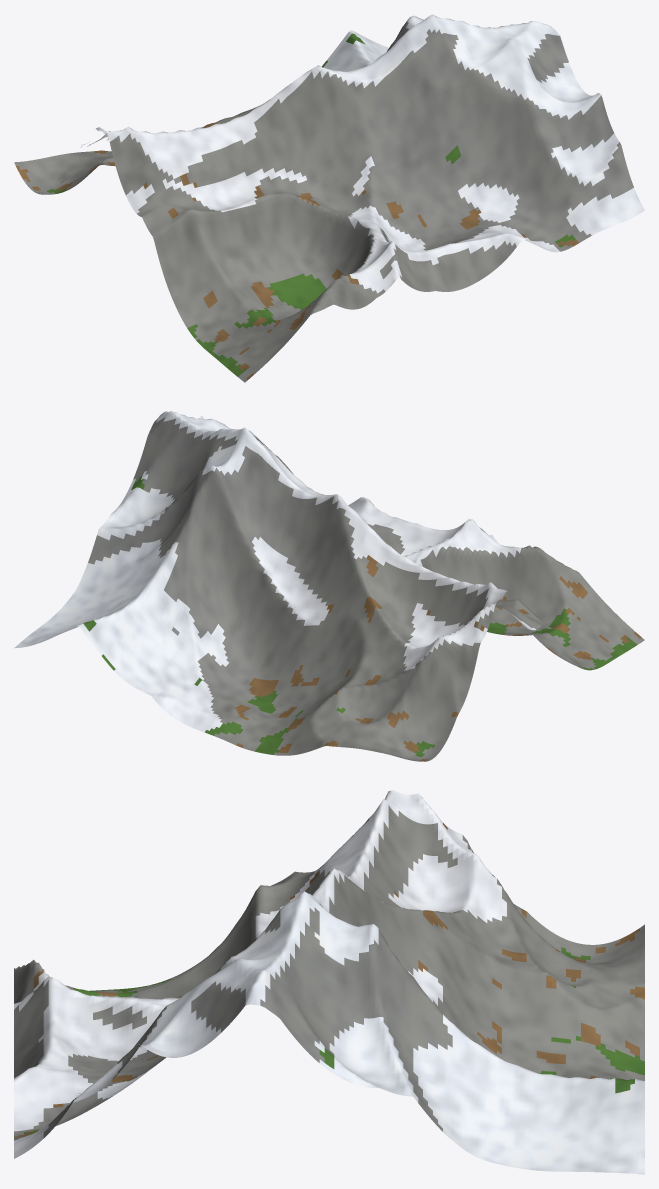
File: chunk_4_0.glb
3 renders of one model, top to bottom at view 1: azimuth 30°, elevation 25°; view 2: azimuth 150°, elevation 25°; view 3: azimuth 270°, elevation 25°, orthographic. The views are drawn at different scales.
Visible parts, largest first — view 1: Surface_Gravel, Surface_Snow, Surface_Grass, Surface_Dirt; view 2: Surface_Gravel, Surface_Snow, Surface_Dirt, Surface_Grass; view 3: Surface_Gravel, Surface_Snow, Surface_Dirt, Surface_Grass.
Part boxes in pixels (x1,y1,x2,y2): Surface_Gravel: (14,17,633,382); Surface_Snow: (81,14,644,293); Surface_Grass: (47,33,575,376); Surface_Dirt: (16,121,578,379); Surface_Gravel: (88,417,644,761); Surface_Snow: (14,411,536,732); Surface_Dirt: (235,555,641,760); Surface_Grass: (83,476,637,757); Surface_Gravel: (14,806,644,1140); Surface_Snow: (14,790,644,1174); Surface_Dirt: (14,823,644,1138); Surface_Grass: (24,947,644,1136).
Bounding box in the file's own units: 256 × 134 × 256.
